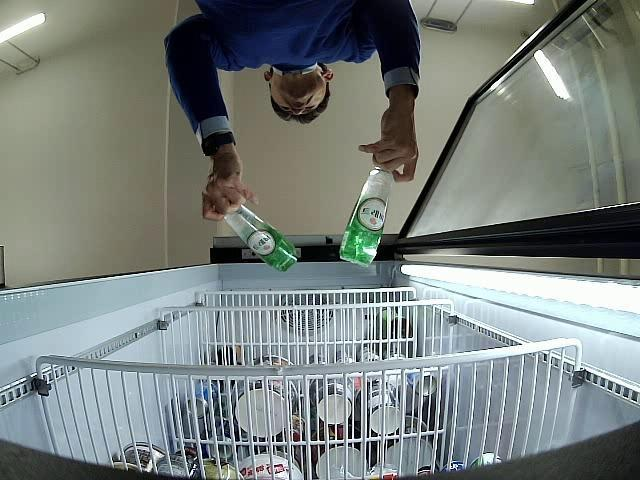18_trevi: (339, 168, 392, 267), (224, 204, 298, 272)
